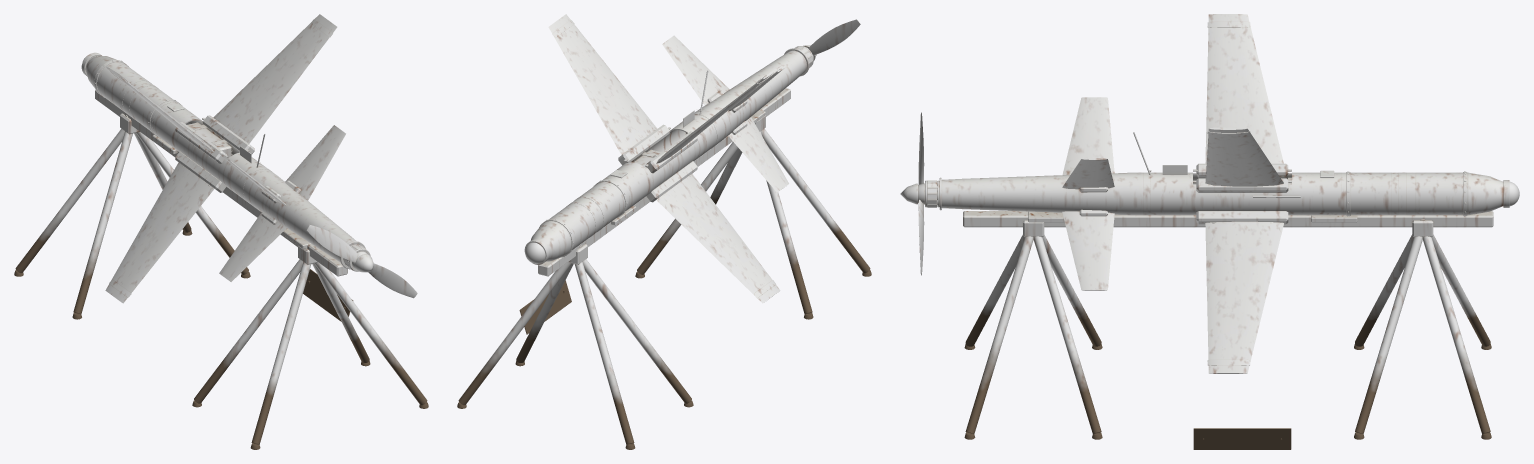
File: drone-loiterx-v5.glb
The picture shows the model from 3 angles, left to right: view 1: azimuth 30°, elevation 25°; view 2: azimuth 150°, elevation 25°; view 3: azimuth 270°, elevation 25°; orthographic projection. The views are drawn at different scales.
Parts seen in each view (by area): view 1: steel_launch_stand_aft, white_wing_main_3, white_wing_main_1, steel_launch_stand_fwd, grey_tail_cone_shell, grey_mid_shell, grey_warhead_section_shell, white_tail_fin_3, white_tail_fin_1, prop_pusher_blades_plastic, steel_launch_rail, grey_hatch_panel (+6 smaller); view 2: steel_launch_stand_fwd, white_wing_main_1, white_wing_main_3, steel_launch_stand_aft, grey_tail_cone_shell, grey_mid_shell, grey_warhead_section_shell, white_tail_fin_3, white_tail_fin_1, steel_launch_rail, grey_nose_housing, prop_pusher_blades_plastic (+6 smaller); view 3: white_wing_main_4, white_wing_main_2, grey_tail_cone_shell, steel_launch_stand_aft, steel_launch_stand_fwd, grey_mid_shell, steel_launch_rail, grey_warhead_section_shell, white_wing_main_1, white_tail_fin_4, white_tail_fin_2, grey_hatch_panel (+7 smaller).
Part boxes in pixels (x1,y1,x2,y2): steel_launch_stand_aft: [194, 259, 427, 444]; white_wing_main_3: [105, 162, 214, 303]; white_wing_main_1: [213, 14, 337, 143]; steel_launch_stand_fwd: [15, 128, 248, 314]; grey_tail_cone_shell: [243, 169, 356, 262]; grey_mid_shell: [152, 102, 266, 198]; grey_warhead_section_shell: [96, 62, 172, 130]; white_tail_fin_3: [219, 212, 286, 281]; white_tail_fin_1: [285, 125, 345, 200]; prop_pusher_blades_plastic: [306, 225, 417, 298]; steel_launch_rail: [95, 89, 347, 276]; grey_hatch_panel: [303, 269, 353, 321]; steel_launch_stand_fwd: [458, 259, 691, 444]; white_wing_main_1: [548, 14, 657, 154]; white_wing_main_3: [656, 174, 780, 303]; steel_launch_stand_aft: [637, 128, 870, 314]; grey_tail_cone_shell: [695, 50, 806, 144]; grey_mid_shell: [603, 114, 716, 210]; grey_warhead_section_shell: [545, 181, 625, 252]; white_tail_fin_3: [728, 117, 788, 192]; white_tail_fin_1: [662, 35, 729, 105]; steel_launch_rail: [538, 88, 790, 276]; grey_nose_housing: [530, 221, 570, 261]; prop_pusher_blades_plastic: [808, 19, 860, 55]; white_wing_main_4: [1205, 221, 1283, 373]; white_wing_main_2: [1205, 14, 1283, 163]; grey_tail_cone_shell: [941, 172, 1143, 215]; steel_launch_stand_aft: [965, 235, 1101, 434]; steel_launch_stand_fwd: [1355, 234, 1490, 434]; grey_mid_shell: [1150, 172, 1341, 215]; steel_launch_rail: [963, 211, 1493, 227]; grey_warhead_section_shell: [1350, 172, 1468, 215]; white_wing_main_1: [1205, 127, 1283, 186]; white_tail_fin_4: [1062, 211, 1114, 290]; white_tail_fin_2: [1062, 97, 1114, 175]; grey_hatch_panel: [1193, 428, 1291, 449].
Size of the model in its own units: 0.7986 by 1 by 1.75.
1 material, 1 textured.
